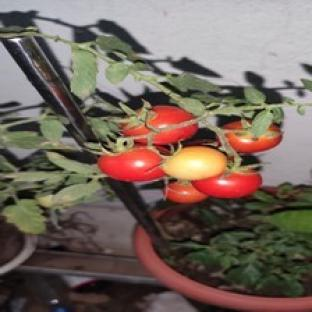Tomato: (122, 106, 197, 144), (98, 147, 165, 181), (162, 147, 227, 181), (193, 169, 261, 199), (223, 122, 282, 153), (163, 182, 207, 203)
